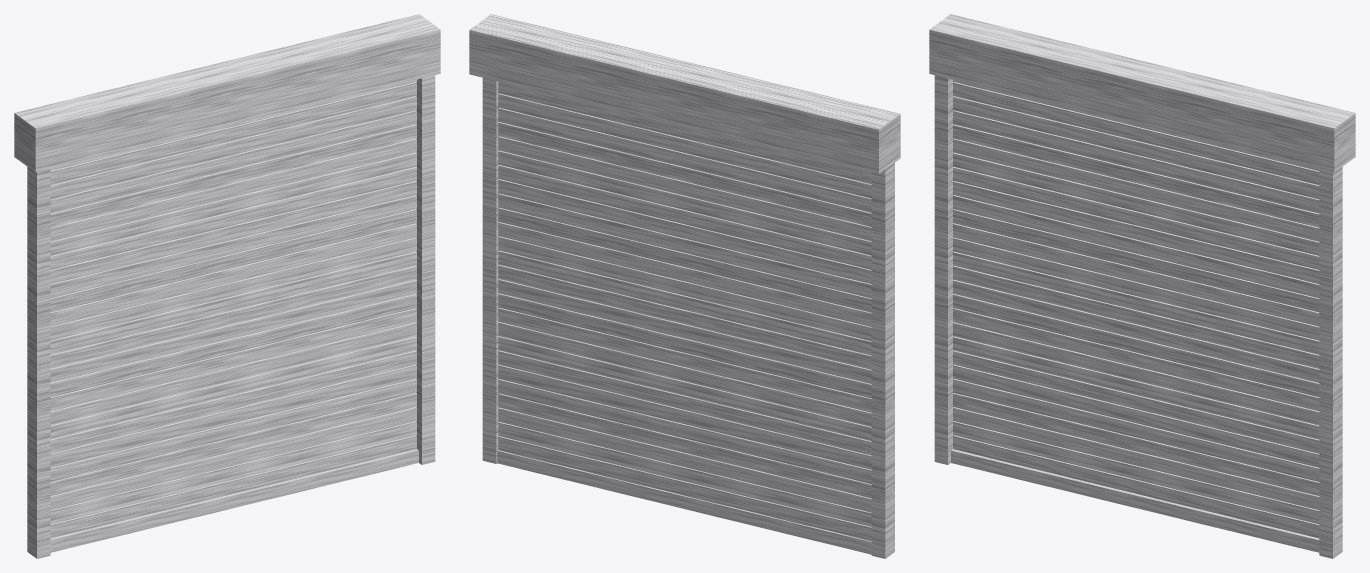
Rendered from serranda.obj.
The picture shows the model from 3 angles, left to right: view 1: azimuth 30°, elevation 25°; view 2: azimuth 150°, elevation 25°; view 3: azimuth 330°, elevation 25°; orthographic projection.
Visible parts, largest first — view 1: metallo_000, metallo_001, metallo_002; view 2: metallo_000, metallo_001, metallo_002; view 3: metallo_000, metallo_001, metallo_002.
Boxes of the visible parts, x1=… form: metallo_000: x1=50, y1=79, x2=416, y2=538; metallo_001: x1=50, y1=82, x2=416, y2=524; metallo_002: x1=14, y1=14, x2=440, y2=558; metallo_000: x1=498, y1=93, x2=871, y2=540; metallo_001: x1=498, y1=81, x2=871, y2=526; metallo_002: x1=469, y1=14, x2=900, y2=558; metallo_000: x1=953, y1=79, x2=1319, y2=538; metallo_001: x1=953, y1=82, x2=1319, y2=524; metallo_002: x1=929, y1=14, x2=1355, y2=558.
Bounding box in the file's own units: 2.4 × 2.45 × 0.22.
Materials: 4 (3 with a texture image).
